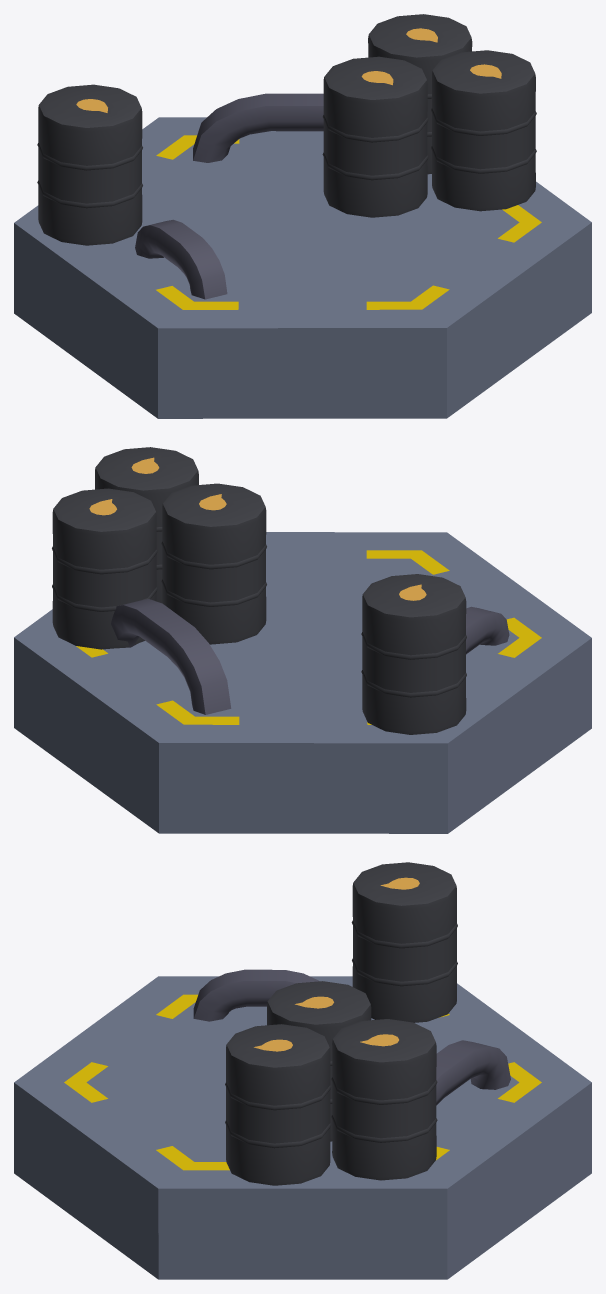
File: OilHex_02.fbx
3 views of the same model, one above another, from view 1: azimuth 30°, elevation 25°; view 2: azimuth 150°, elevation 25°; view 3: azimuth 270°, elevation 25° (orthographic).
Visible parts, largest first — view 1: OilHex_02; view 2: OilHex_02; view 3: OilHex_02.
Part boxes in pixels (x1,y1,x2,y2): OilHex_02: (14, 14, 591, 418); OilHex_02: (14, 447, 591, 833); OilHex_02: (14, 862, 591, 1279).
Bounding box in the file's own units: 1 × 0.465 × 1.15.
